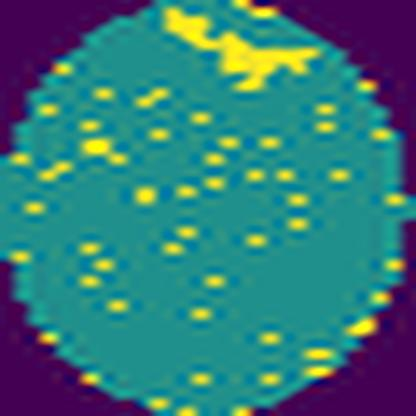Edge-Loc: (163, 5, 321, 93)
